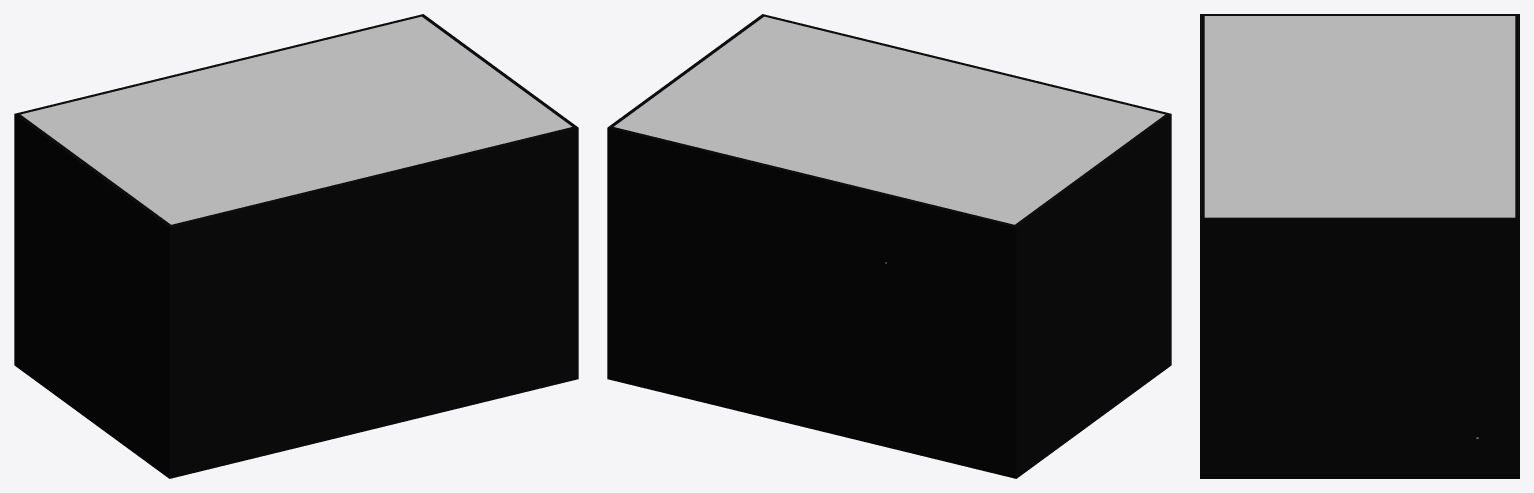
Rendered from Road.fbx.
3 views of the same model, side by side, from view 1: azimuth 30°, elevation 25°; view 2: azimuth 150°, elevation 25°; view 3: azimuth 270°, elevation 25° (orthographic). The views are drawn at different scales.
Parts seen in each view (by area): view 1: Road; view 2: Road; view 3: Road.
Part boxes in pixels (box(x1,y1,x2,y2)): Road: box(14, 14, 578, 478); Road: box(607, 14, 1171, 478); Road: box(1200, 14, 1519, 478).
Bounding box in the file's own units: 7000 × 4114 × 4600.
Materials: 3 (3 with a texture image).
